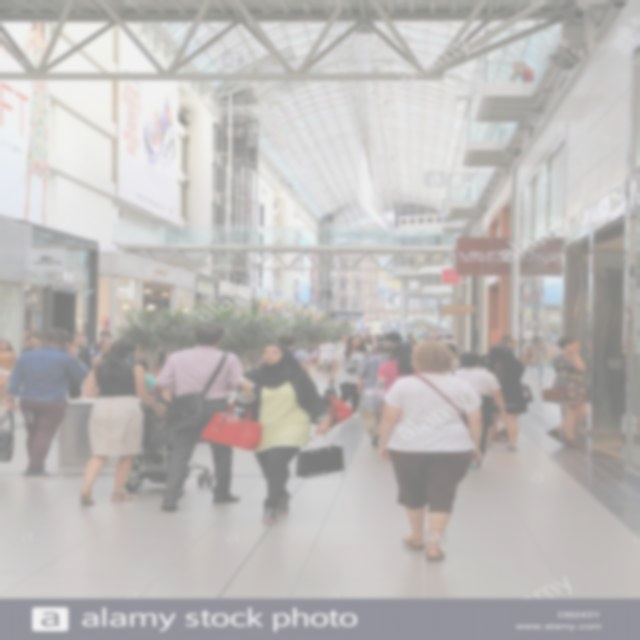pessoa: (372, 339, 490, 562), (148, 318, 255, 513), (232, 342, 334, 528), (74, 336, 174, 508), (0, 326, 94, 483), (446, 350, 510, 470), (477, 344, 530, 452), (540, 336, 588, 449), (354, 339, 398, 446), (373, 340, 423, 428), (328, 334, 371, 420), (493, 335, 520, 442), (334, 326, 456, 347), (257, 331, 312, 377), (62, 334, 94, 401), (523, 331, 548, 386), (0, 340, 18, 406), (134, 358, 158, 393), (145, 340, 172, 370), (317, 339, 335, 376), (88, 329, 115, 352), (508, 61, 536, 83), (20, 334, 44, 354), (89, 339, 112, 359), (439, 334, 459, 354), (332, 334, 350, 354), (384, 330, 402, 345)
